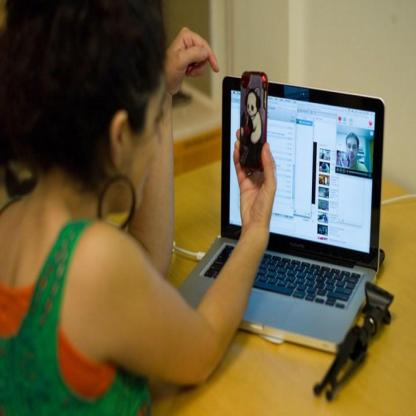board: (178, 72, 386, 356)
